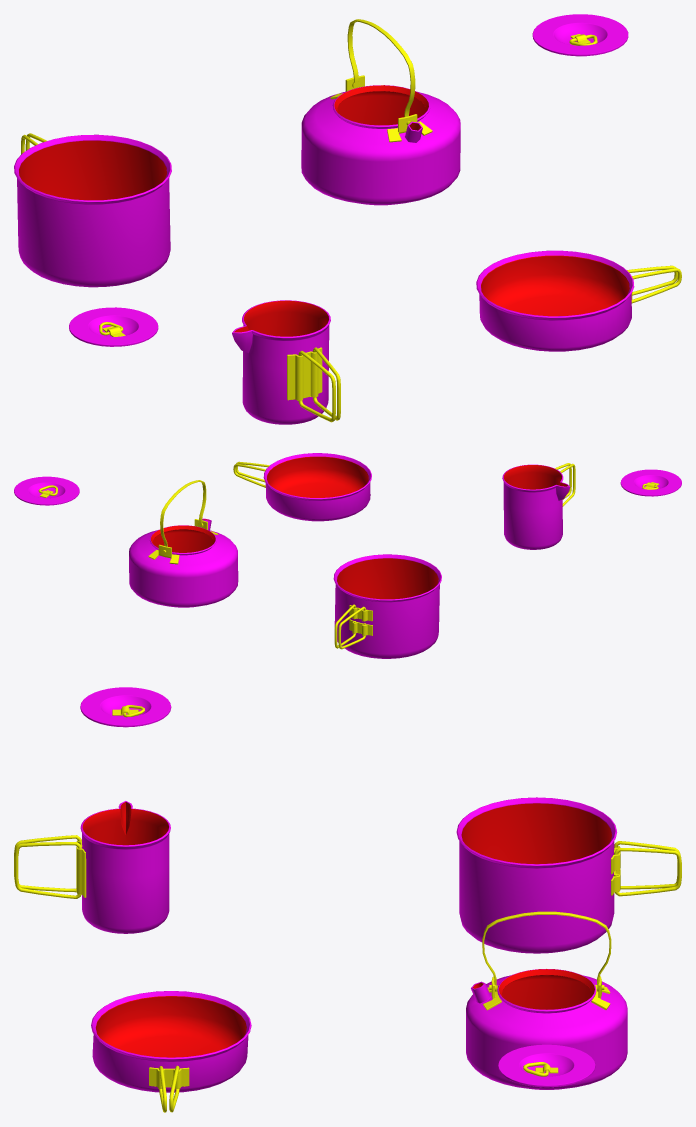
3 renders of one model, top to bottom at view 1: azimuth 30°, elevation 25°; view 2: azimuth 150°, elevation 25°; view 3: azimuth 270°, elevation 25°, orthographic. The views are drawn at different scales.
Visible parts, largest first — view 1: pot.001, Kettle, pan, Boiler; view 2: pot.001, Kettle, pan, Boiler; view 3: pot.001, Kettle, Boiler, pan.
Part boxes in pixels (x1=…): pot.001: x1=14, y1=133, x2=171, y2=287; Kettle: x1=301, y1=14, x2=628, y2=205; pan: x1=476, y1=250, x2=681, y2=351; Boiler: x1=69, y1=300, x2=340, y2=424; pot.001: x1=333, y1=554, x2=441, y2=658; Kettle: x1=14, y1=476, x2=238, y2=607; pan: x1=233, y1=453, x2=371, y2=521; Boiler: x1=502, y1=463, x2=681, y2=549; pot.001: x1=456, y1=797, x2=681, y2=953; Kettle: x1=466, y1=911, x2=627, y2=1089; Boiler: x1=14, y1=687, x2=171, y2=933; pan: x1=91, y1=991, x2=251, y2=1112.
Bounding box in the file's own units: 198 × 38.49 × 149.
